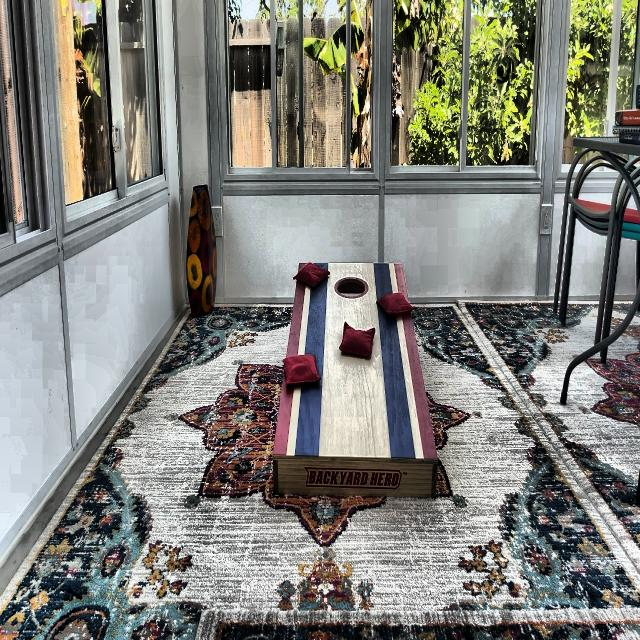board: (293, 264, 412, 456)
hole: (333, 275, 369, 299)
red-bean-bag: (338, 321, 376, 358), (283, 354, 320, 385), (376, 293, 416, 317), (292, 263, 330, 288)
